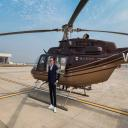helicopter: (27, 2, 128, 115)
